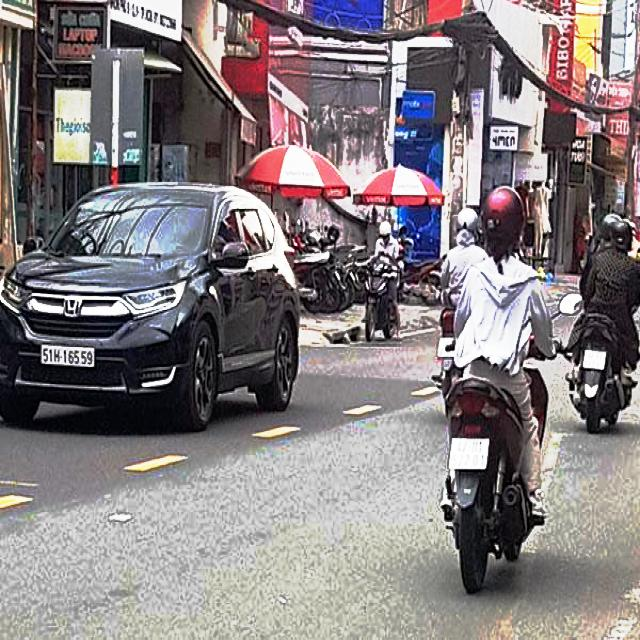license_plate: (448, 436, 490, 472)
